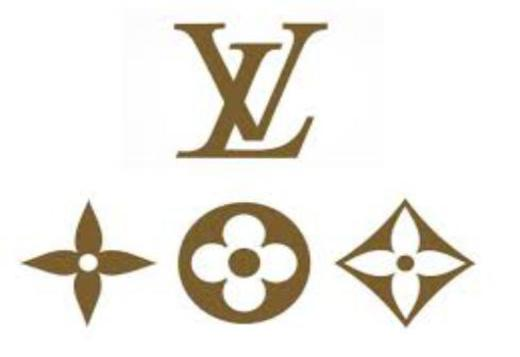LOUIS-VUITTON: (151, 1, 346, 172)
